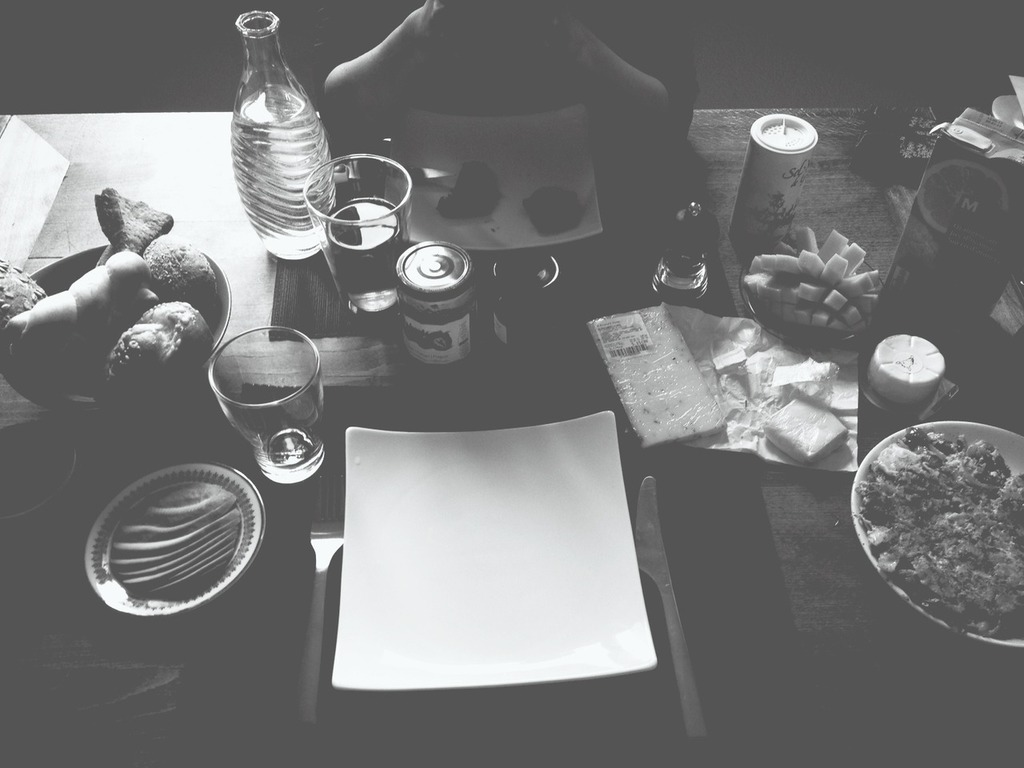plate: (329, 411, 655, 684), (860, 394, 1023, 640)
